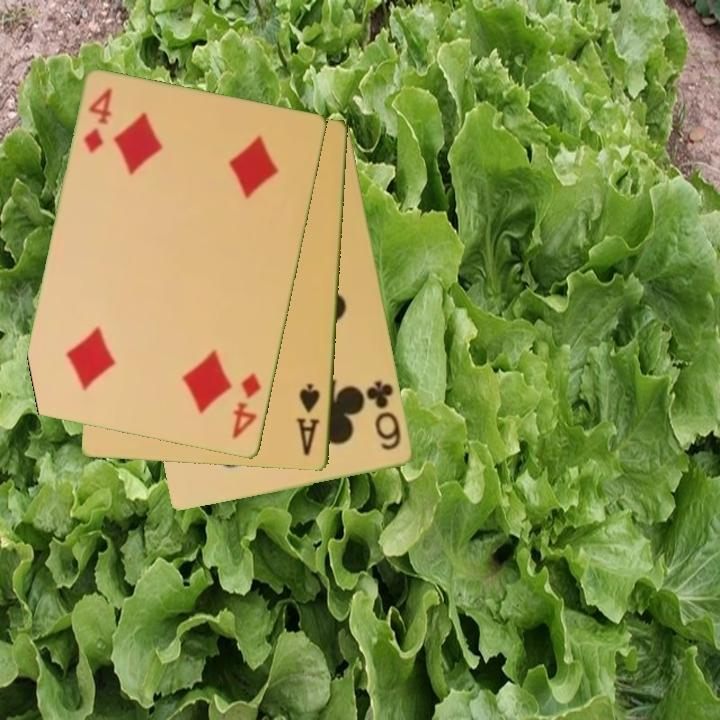4d: (80, 84, 116, 156), (229, 369, 264, 443)
6c: (363, 377, 405, 454)
As: (292, 381, 324, 459)
